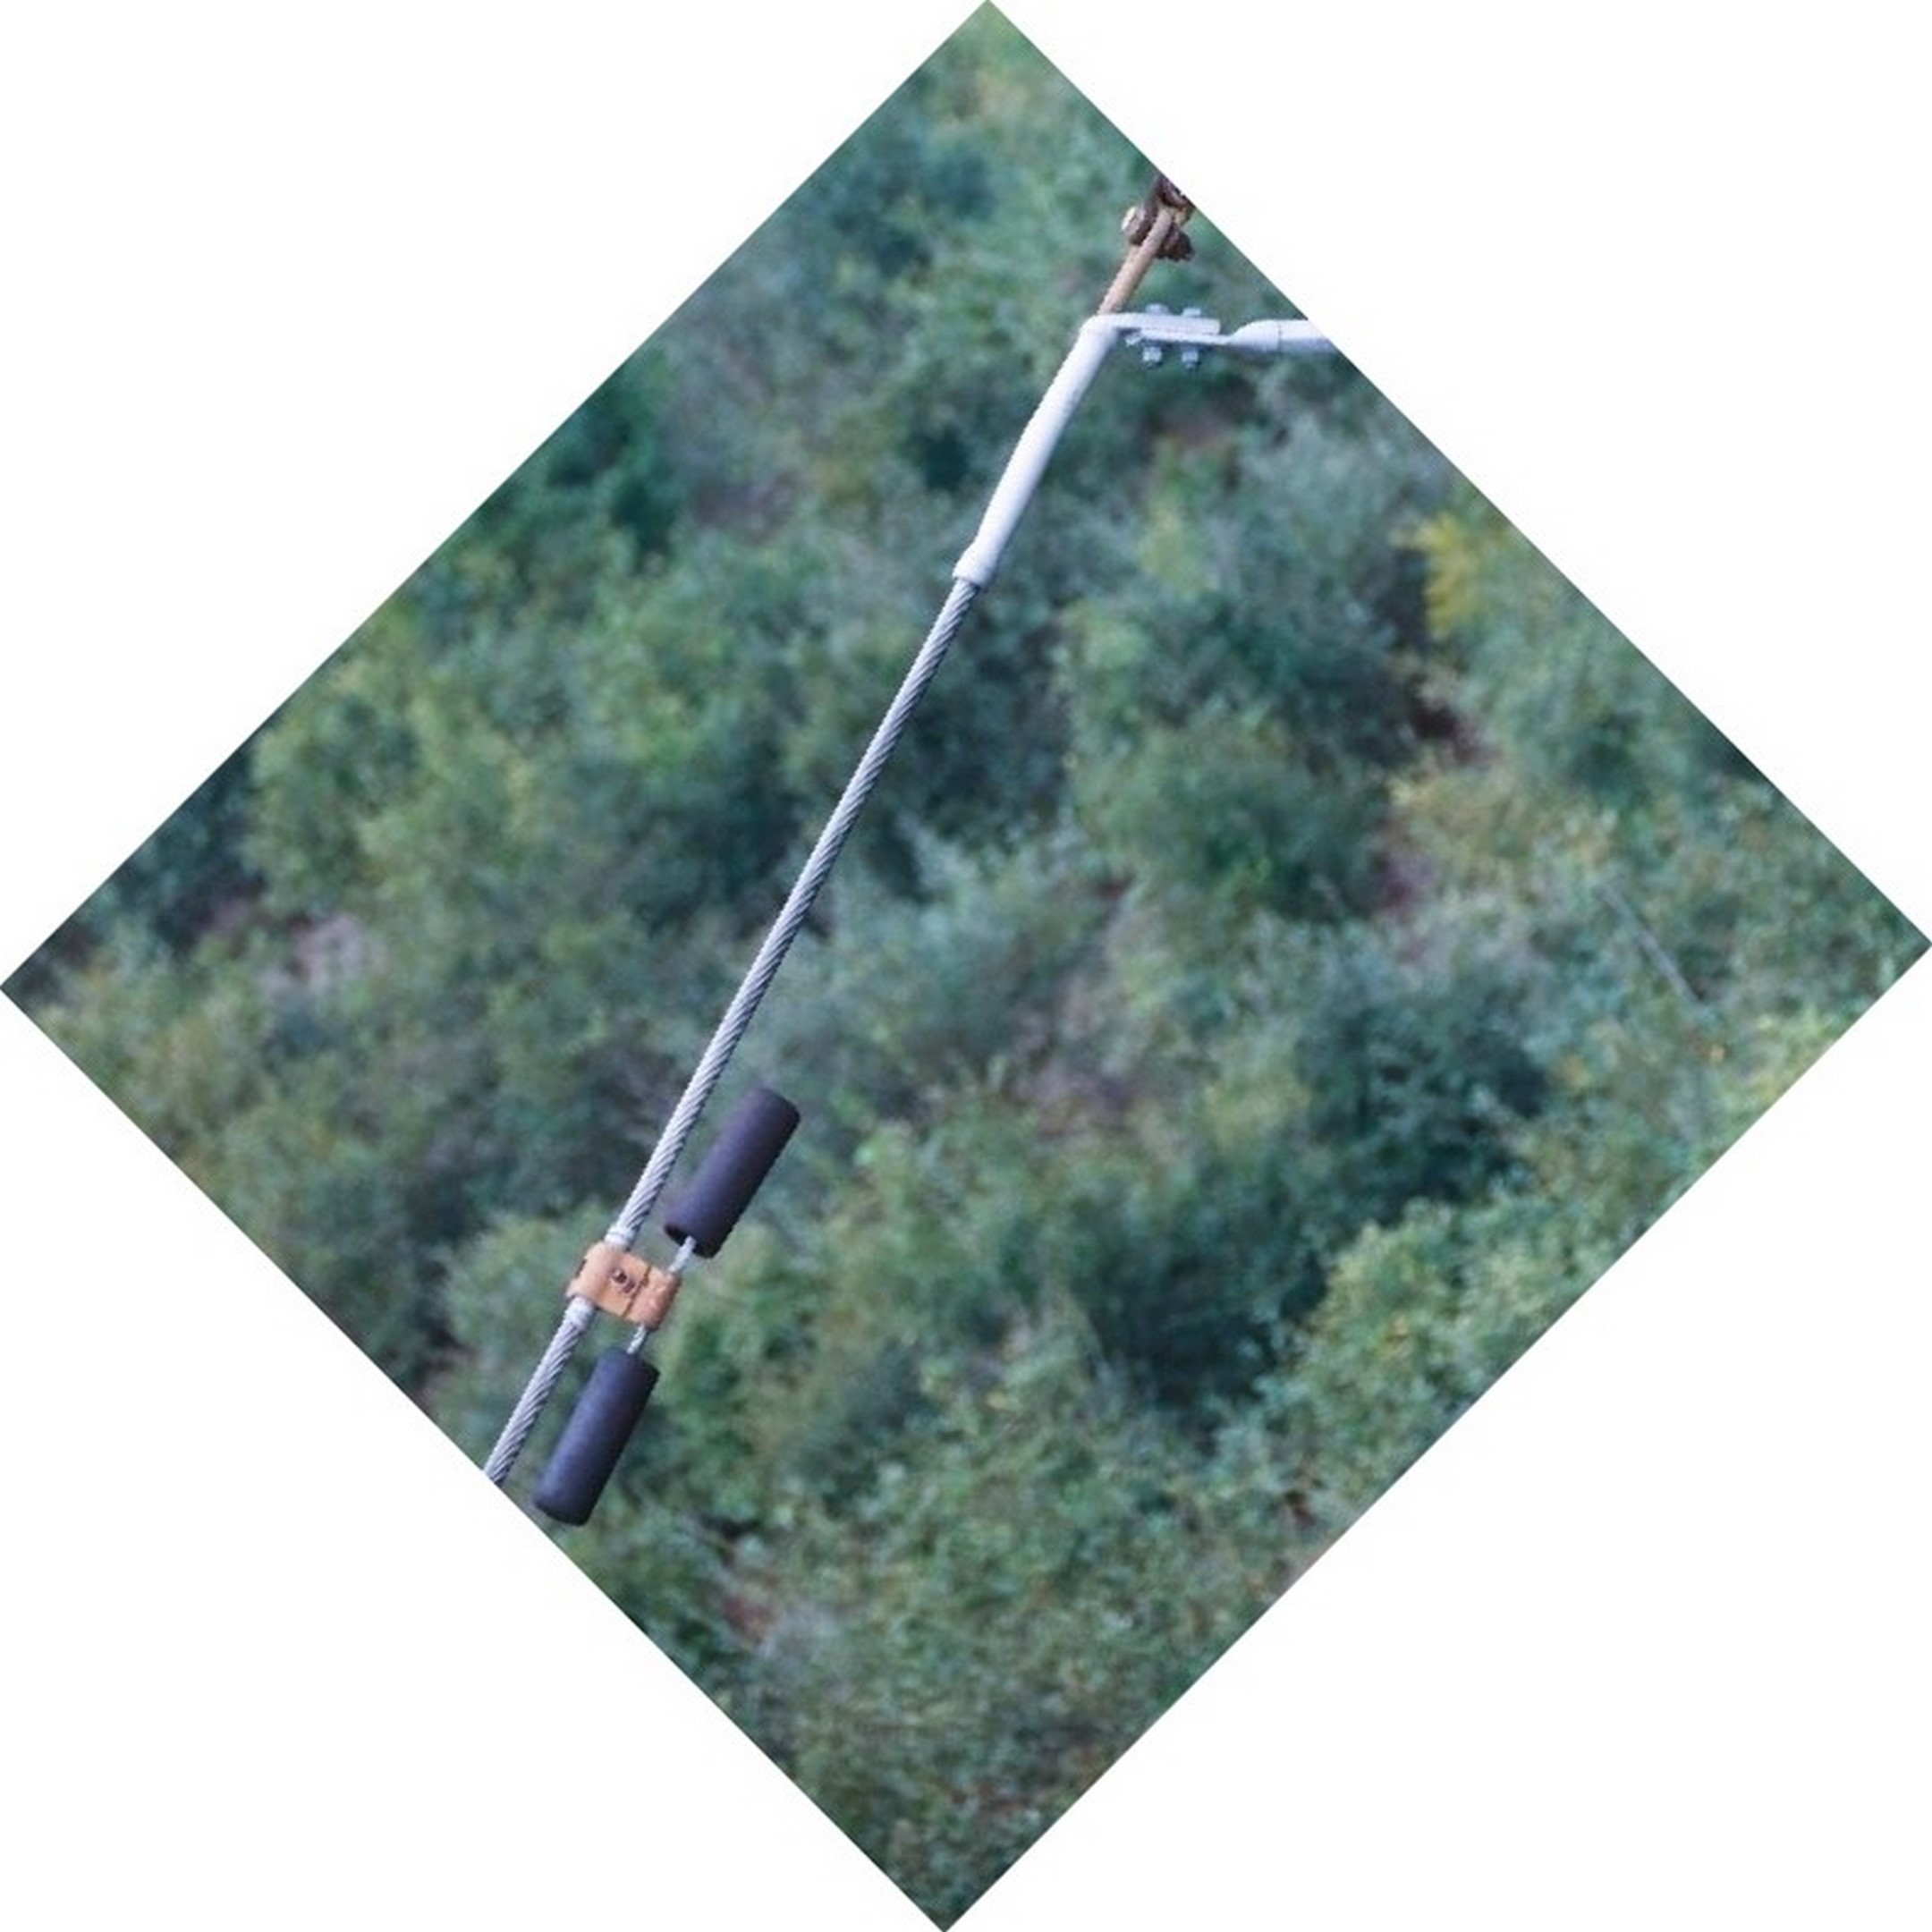Shockproof hammer: (499, 1049, 833, 1536)
